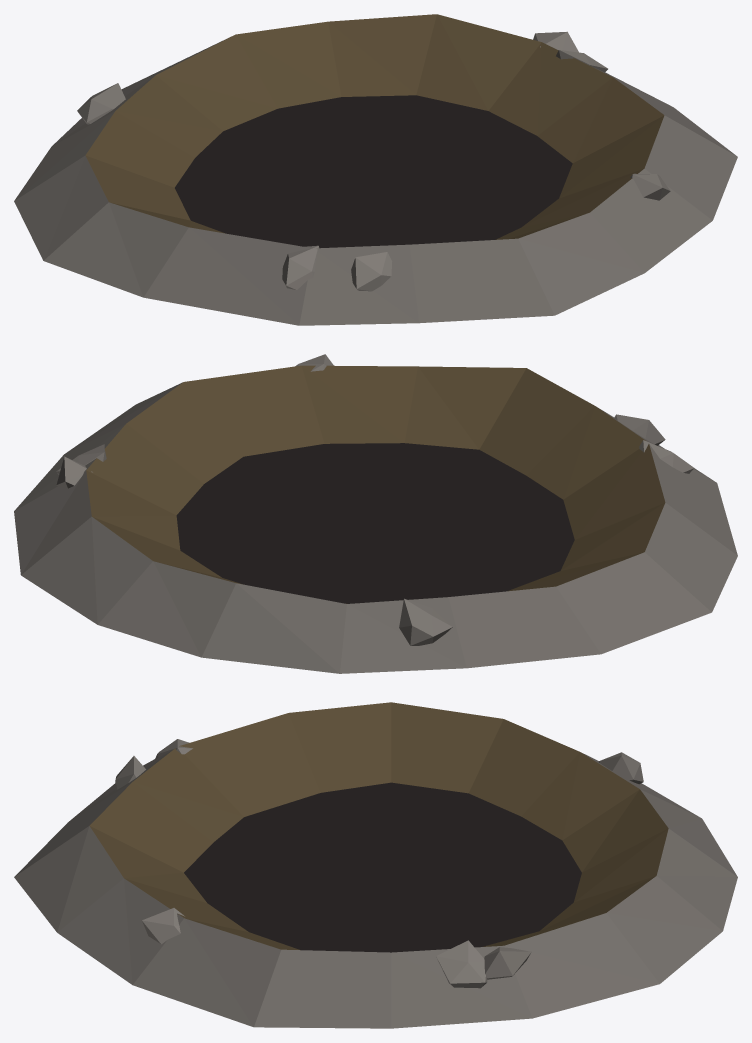
Rendered from worked_out_pit.glb.
The picture shows the model from 3 angles, top to bottom: view 1: azimuth 30°, elevation 25°; view 2: azimuth 150°, elevation 25°; view 3: azimuth 270°, elevation 25°; orthographic projection. The views are drawn at different scales.
Visible parts, largest first — view 1: worked_out_pit; view 2: worked_out_pit; view 3: worked_out_pit.
Part boxes in pixels (<box>): worked_out_pit: <box>14,14,737,325</box>; worked_out_pit: <box>14,354,737,673</box>; worked_out_pit: <box>14,702,737,1028</box>.
Bounding box in the file's own units: 3.02 × 0.23 × 2.93.
